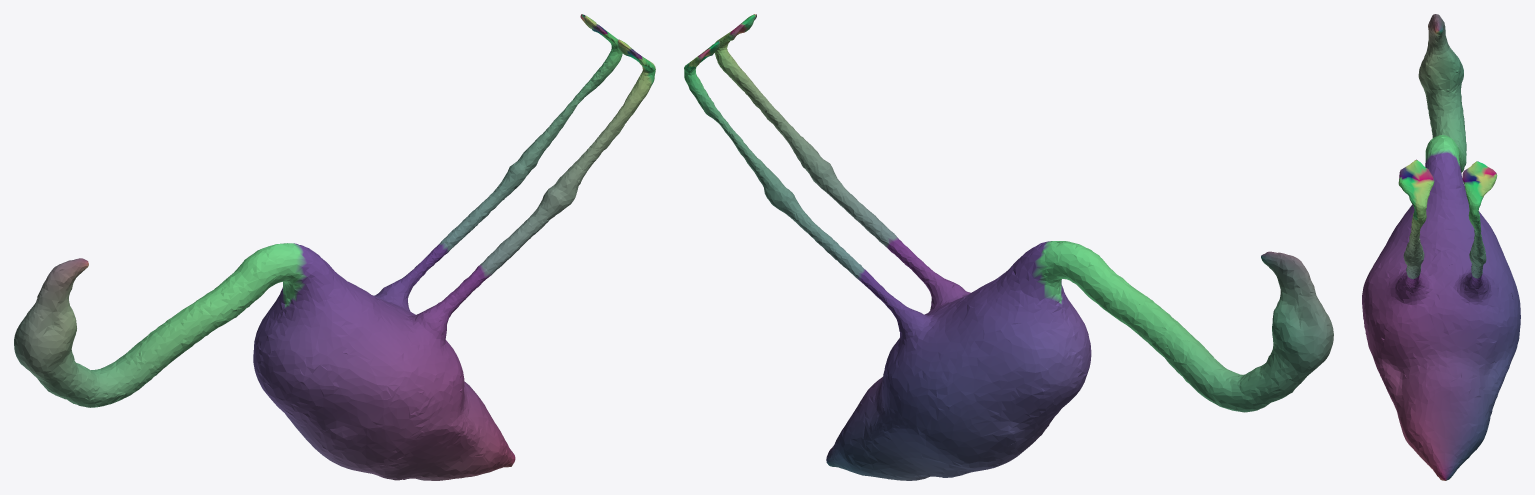
The model's file is flamingo-8.off.obj.
3 renders of one model, left to right at view 1: azimuth 30°, elevation 25°; view 2: azimuth 150°, elevation 25°; view 3: azimuth 270°, elevation 25°, orthographic. The views are drawn at different scales.
Size of the model in its own units: 1.61 by 1.02 by 0.4072.
